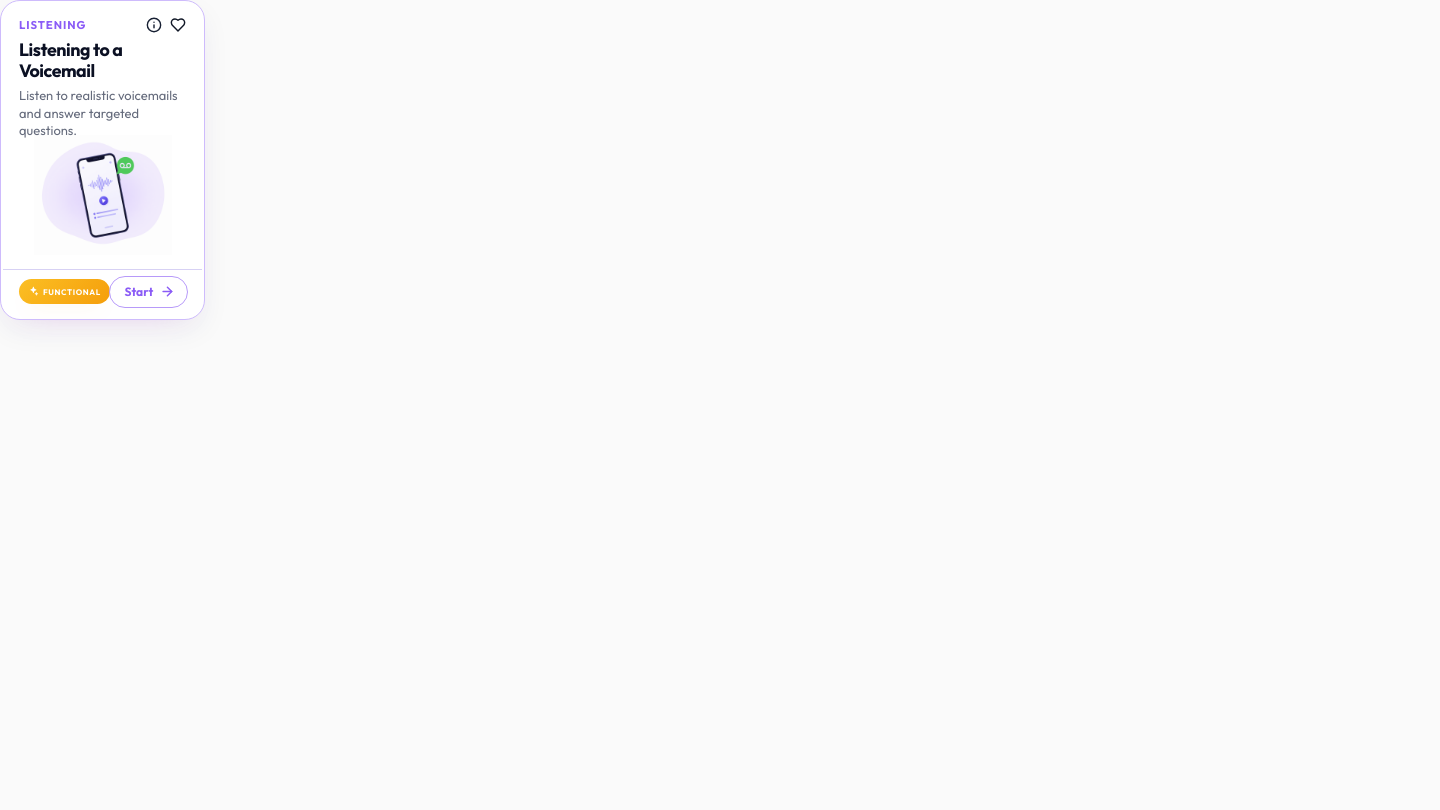
Test case: ActivityCard shared interactions › information panel closes with Escape and an outside click
Later steps or results of the test are not shown.
Click the button named "About this activity: Listening to a Voicemail": (154, 25) [140,11,168,39]
Click the button named "About this activity: Listening to a Voicemail": (154, 25) [140,11,168,39]
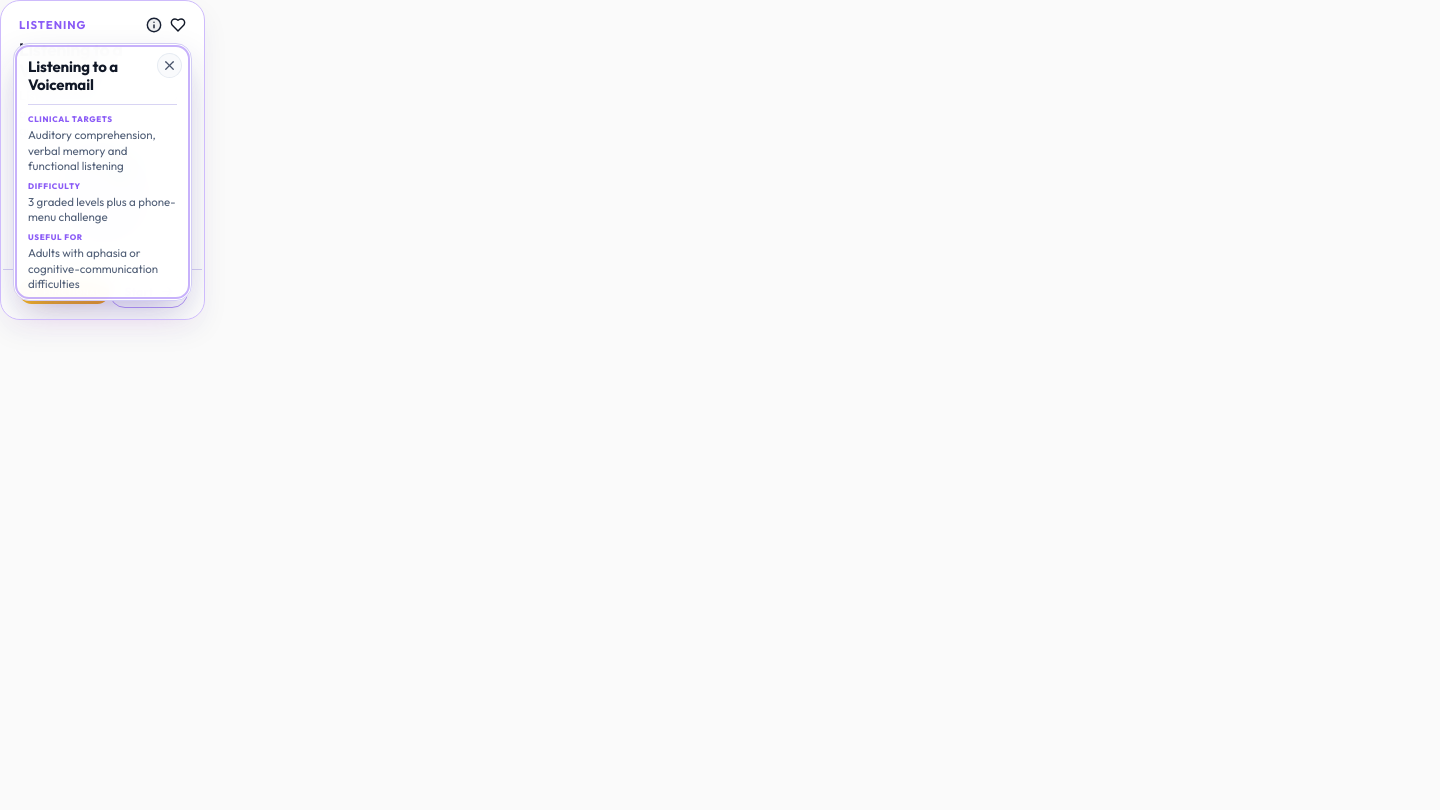
Press the mouse on the element that starts with "Listening": (720, 160) [0,0,1439,320]
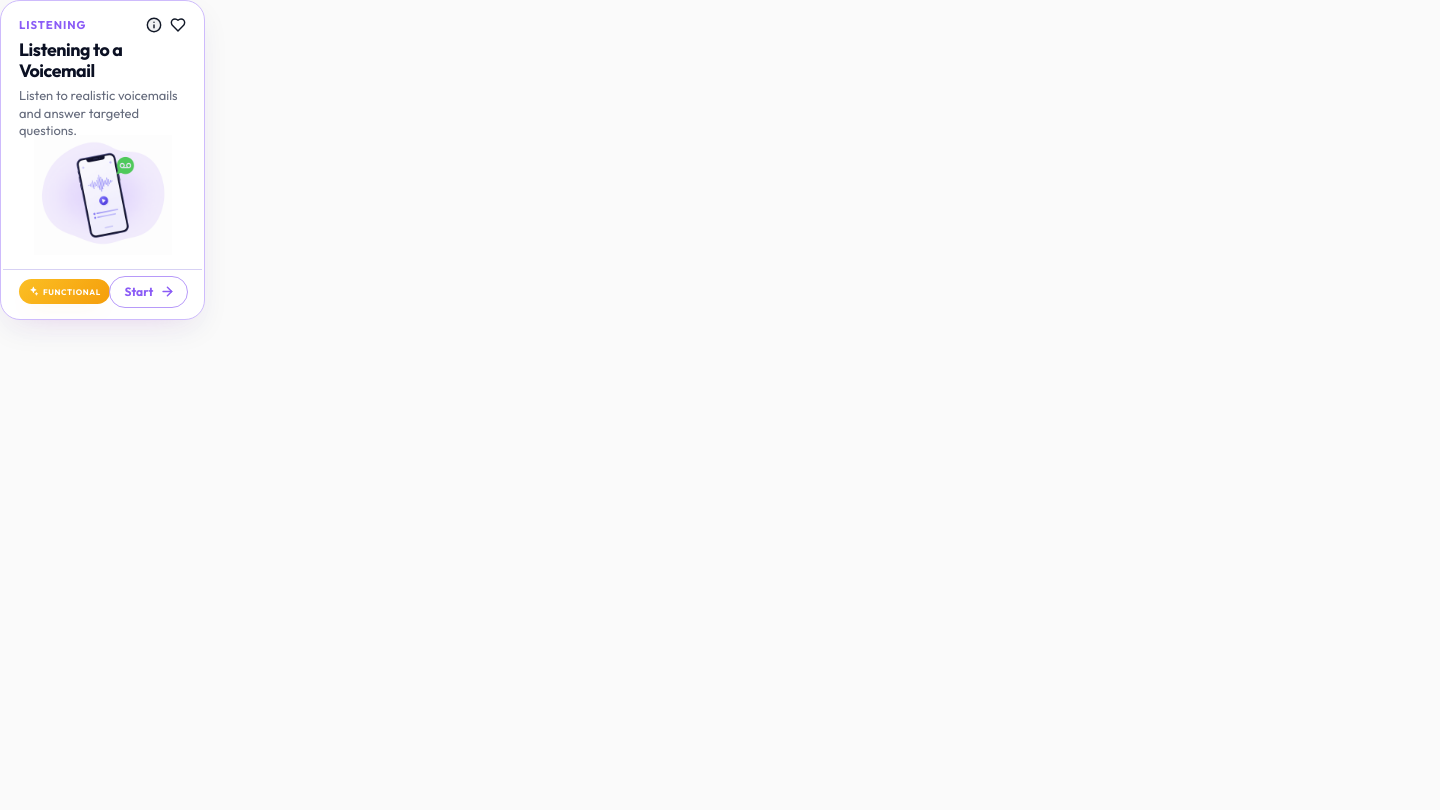
Now the dialog is gone
